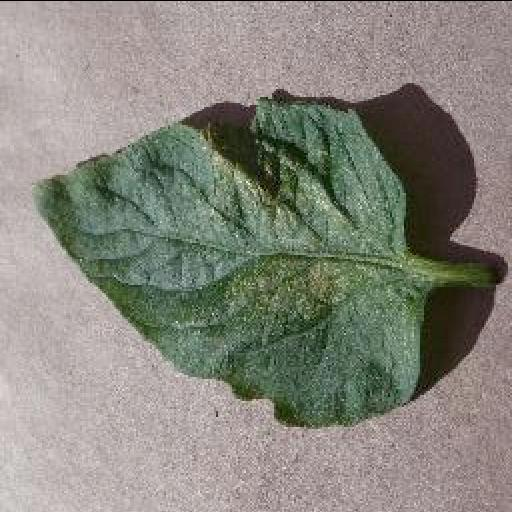disease_tomato: (28, 95, 426, 425)
